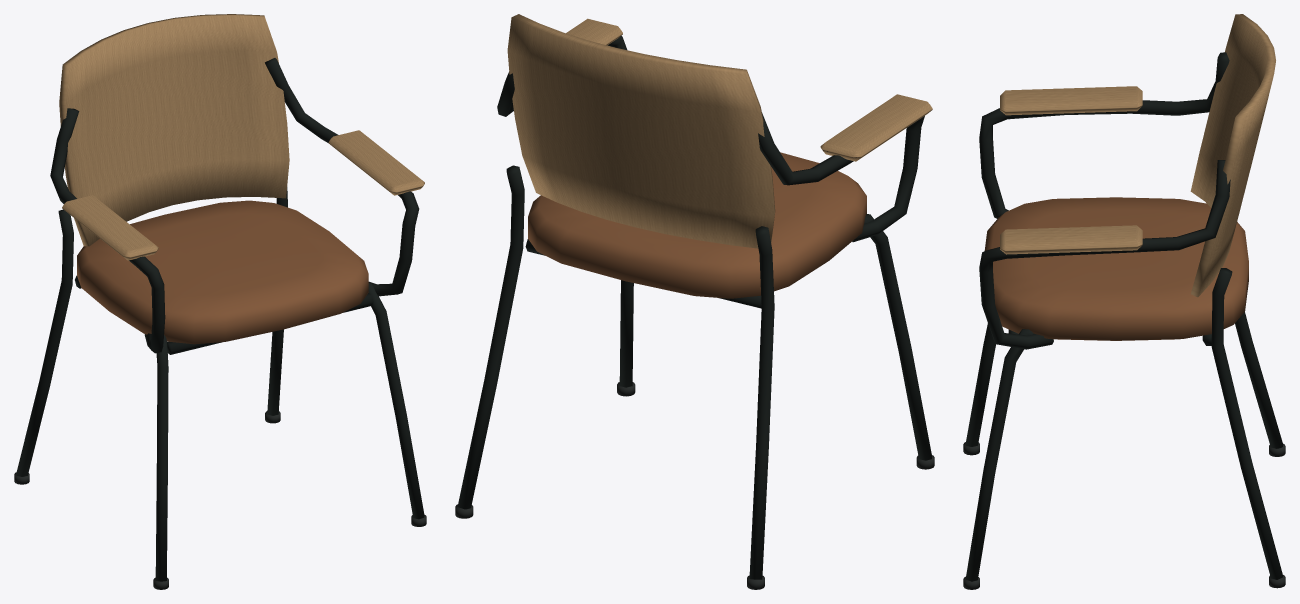
3 views of the same model, side by side, from view 1: azimuth 30°, elevation 25°; view 2: azimuth 150°, elevation 25°; view 3: azimuth 270°, elevation 25° (orthographic). The views are drawn at different scales.
Visible parts, largest first — view 1: Curved natural wood backrest, Caramel upholstered rounded seat, Front leg -1, Leg floor glide; view 2: Curved natural wood backrest, Caramel upholstered rounded seat, Front leg -1, Leg floor glide; view 3: Caramel upholstered rounded seat, Front leg -1, Curved natural wood backrest, Leg floor glide.
Part boxes in pixels (x1,y1,x2,y2): Curved natural wood backrest: (59, 14, 424, 260); Caramel upholstered rounded seat: (77, 200, 368, 344); Front leg -1: (16, 58, 424, 581); Leg floor glide: (14, 411, 426, 589); Curved natural wood backrest: (507, 14, 932, 248); Caramel upholstered rounded seat: (528, 152, 866, 298); Front leg -1: (458, 36, 931, 579); Leg floor glide: (455, 382, 934, 589); Caramel upholstered rounded seat: (984, 197, 1248, 340); Front leg -1: (966, 52, 1282, 581); Curved natural wood backrest: (1000, 14, 1275, 297); Leg floor glide: (963, 442, 1285, 589).
Bounding box in the file's own units: 0.625 × 0.8508 × 0.54.
Materials: 4 (1 with a texture image).
